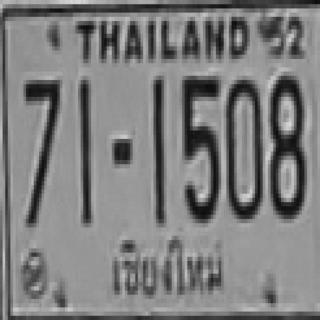N00: (224, 76, 260, 215)
N01: (151, 76, 164, 223), (79, 76, 90, 223)
N05: (180, 72, 218, 219)
N07: (23, 76, 60, 223)
N08: (268, 72, 304, 215)
P11: (103, 232, 229, 303)
